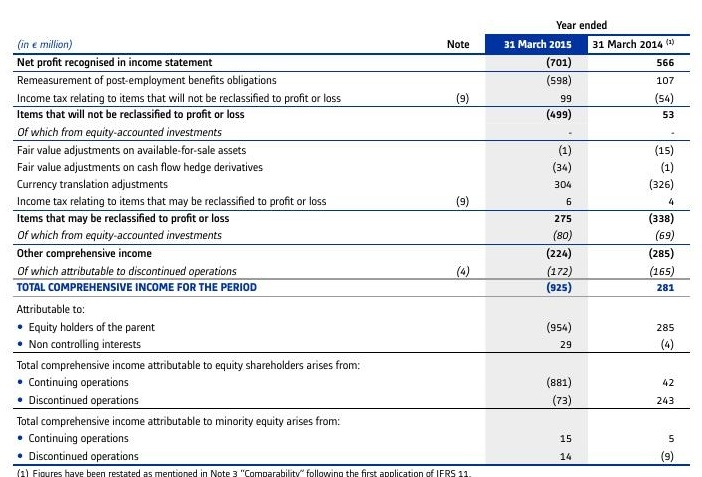table: (0, 0, 702, 477)
